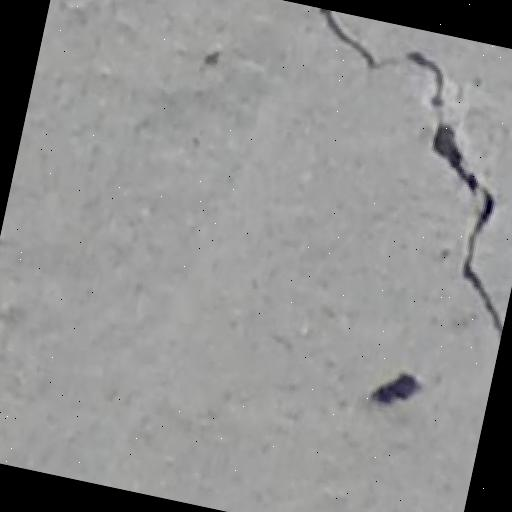spalling: (307, 10, 508, 346)
